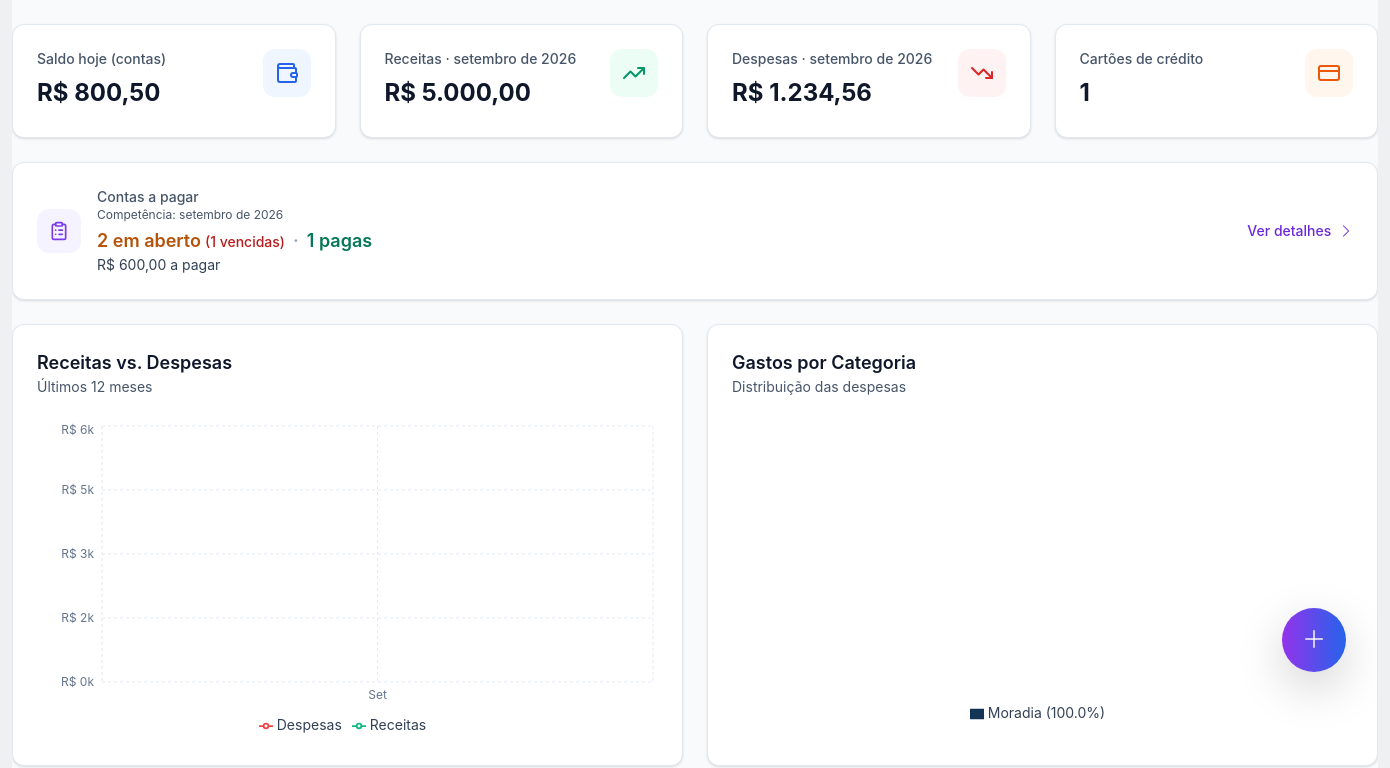
Test case: Dashboard › menu "+" fecha com Escape e devolve o foco ao botão
expect the text "R$ 5.000,00" is shown: met, box left=384, top=78, right=531, bottom=107
Click the button named "Nova transação" at (1314, 640), box left=1282, top=608, right=1346, bottom=672
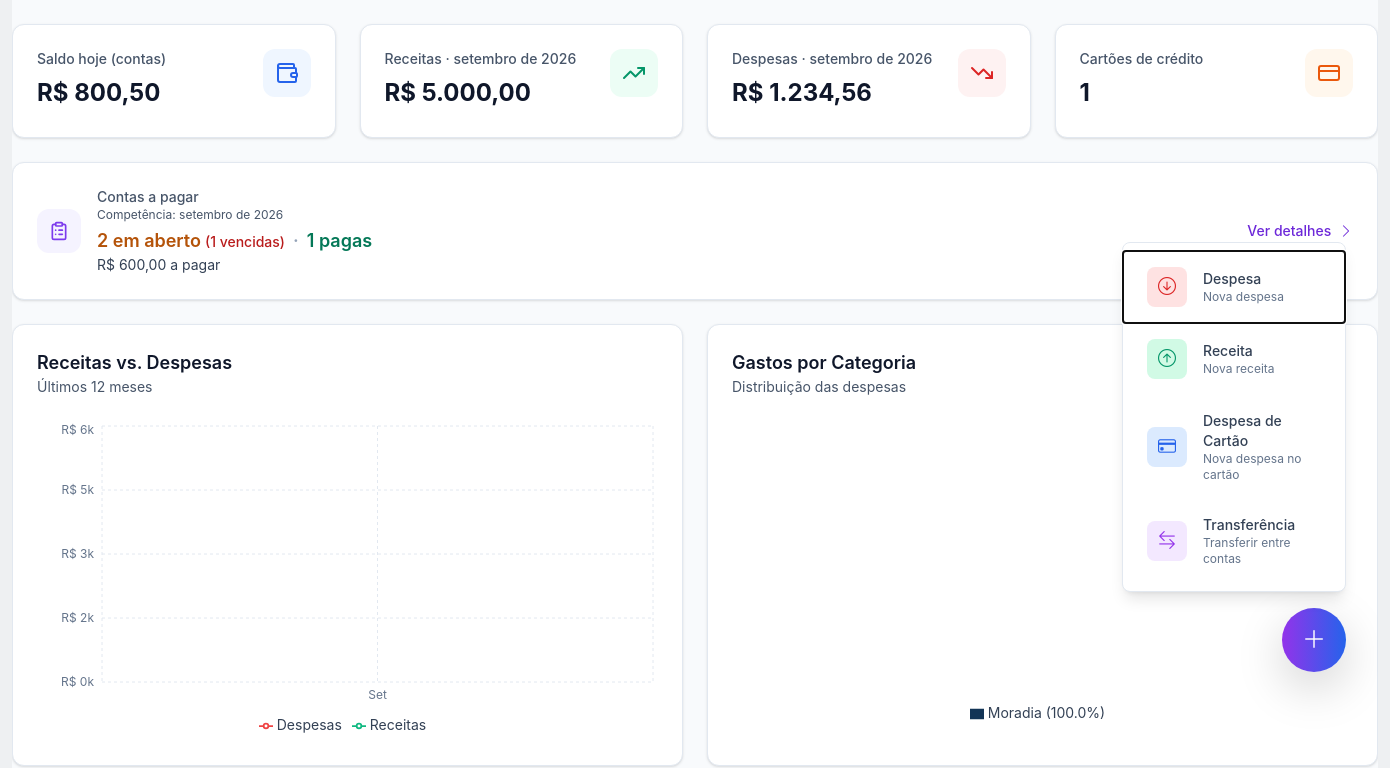
expect the menu is shown: met, box left=1122, top=242, right=1346, bottom=592
Press Escape
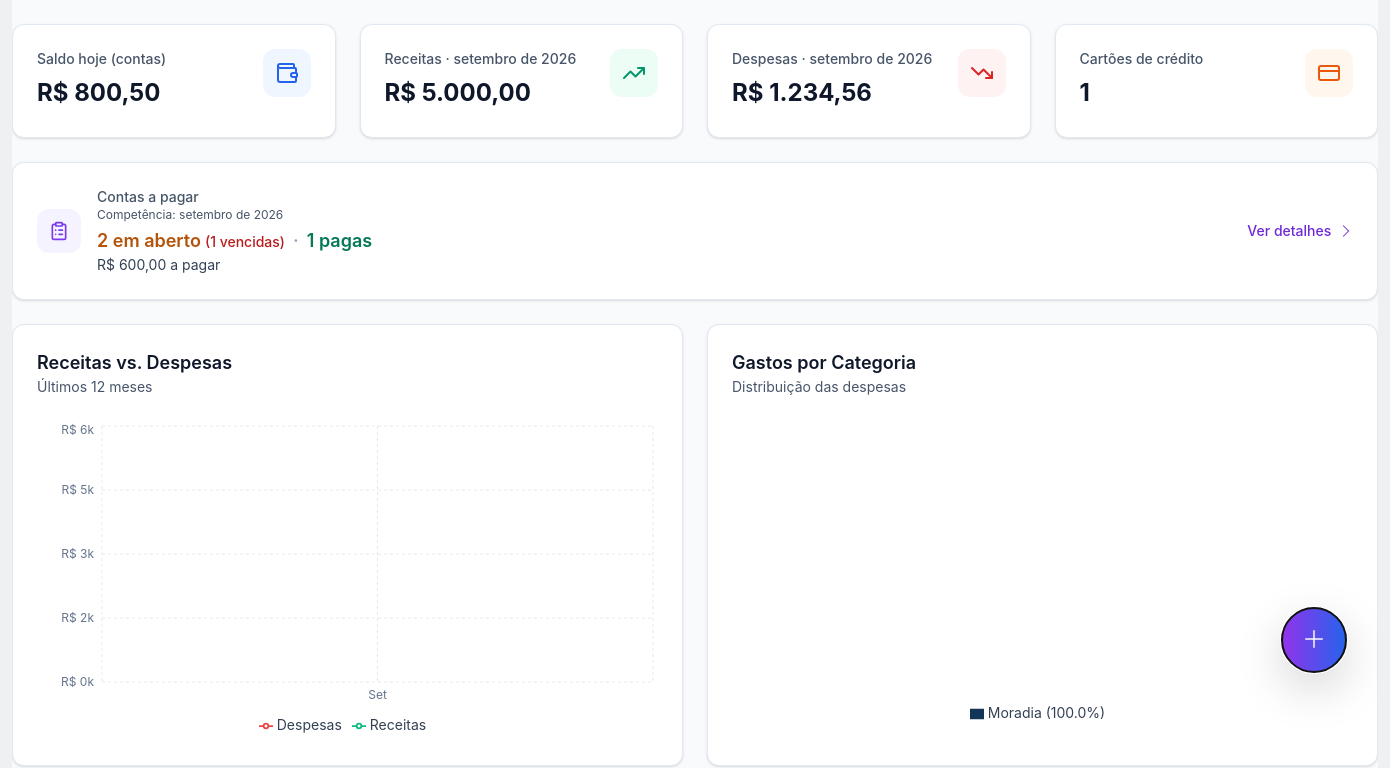
expect the menu is gone: met
